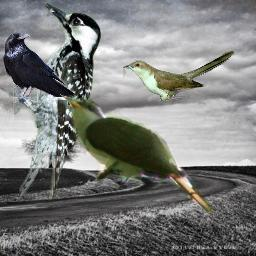Crow: (3, 32, 76, 106)
Cuckoo: (61, 96, 216, 214), (123, 50, 234, 101)
Woodpecker: (13, 1, 101, 201)
